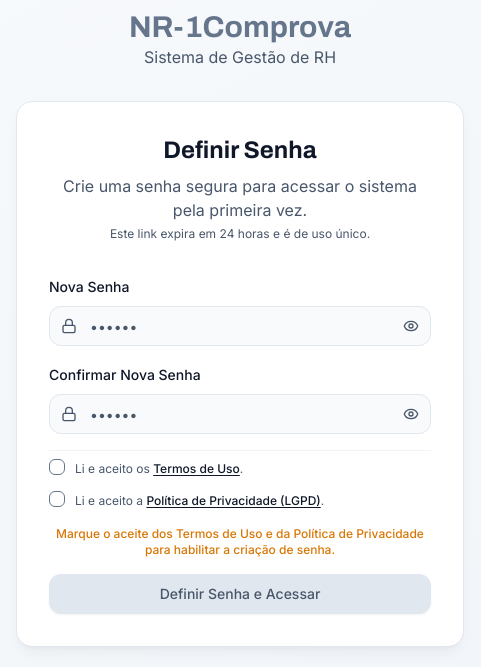
Test case: AtualizarSenha — Aceite Obrigatório de Termos e Privacidade (LGPD) › mantém o botão desabilitado enquanto ambos os checkboxes não forem marcados
Expected: the button "Definir Senha e Acessar" is disabled, x1=49 y1=574 x2=431 y2=614
Click the checkbox named "Li e aceito os Termos de Uso" next to "Li e aceito os": click(57, 467) x1=49 y1=459 x2=65 y2=475
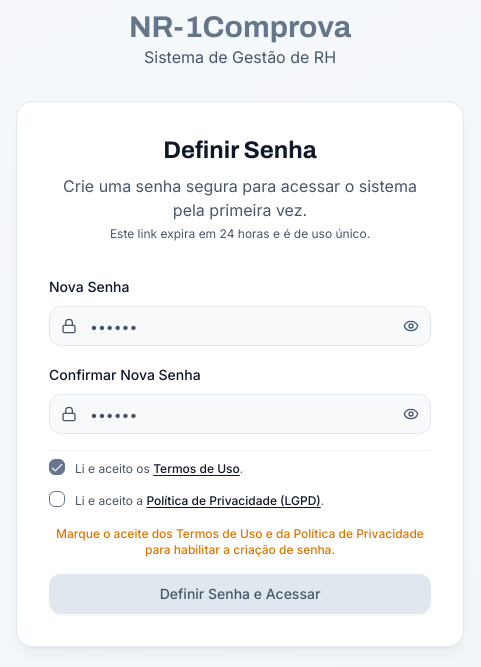
Expected: the button "Definir Senha e Acessar" is disabled, x1=49 y1=574 x2=431 y2=614
Click the checkbox named "Li e aceito os Termos de Uso" next to "Li e aceito os": click(57, 467) x1=49 y1=459 x2=65 y2=475
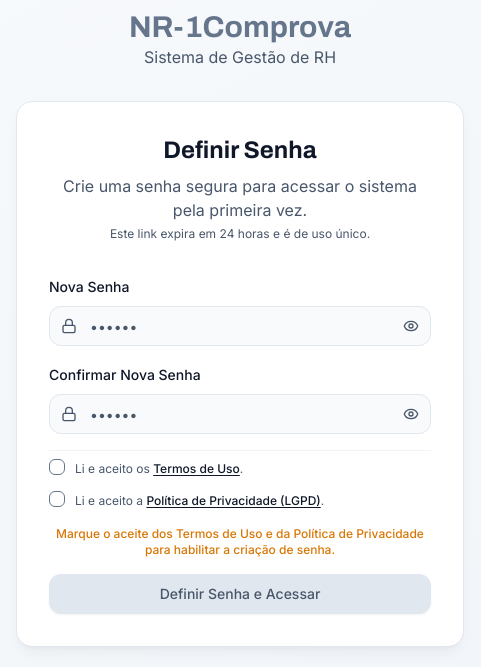
Click the checkbox named "Li e aceito a Política de Privacidade" next to "Li e aceito a": click(57, 498) x1=49 y1=490 x2=65 y2=506
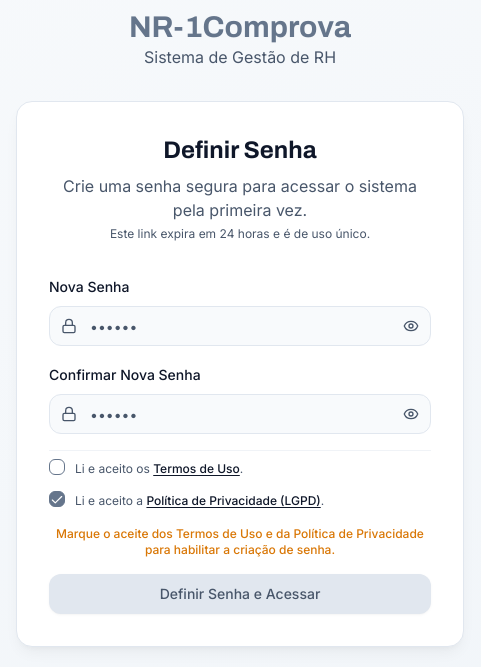
Expected: the button "Definir Senha e Acessar" is disabled, x1=49 y1=574 x2=431 y2=614
Click the checkbox named "Li e aceito os Termos de Uso" next to "Li e aceito os": click(57, 467) x1=49 y1=459 x2=65 y2=475
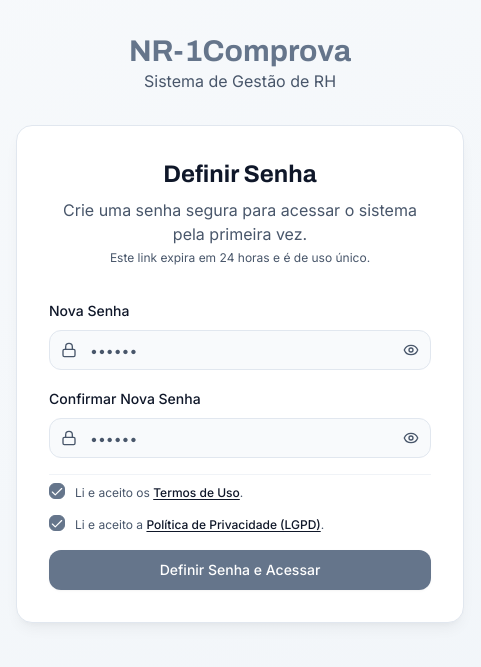
Expected: the button "Definir Senha e Acessar" is enabled, x1=49 y1=550 x2=431 y2=590
